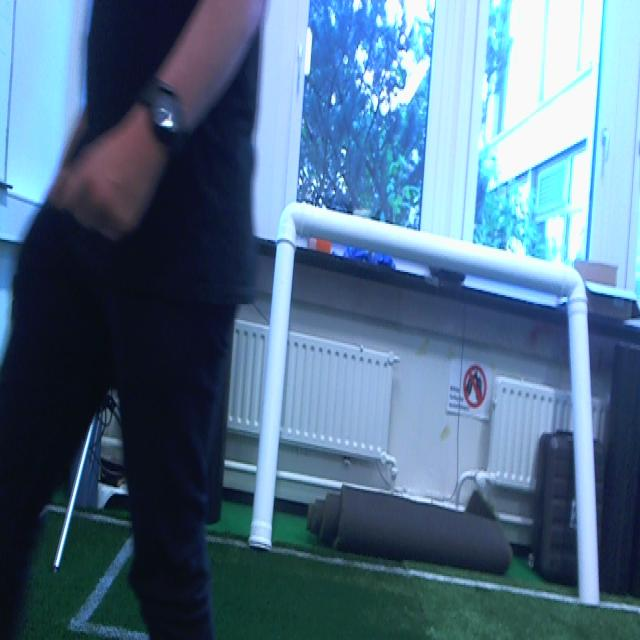goalpost: (251, 205, 298, 542), (567, 279, 603, 613)
